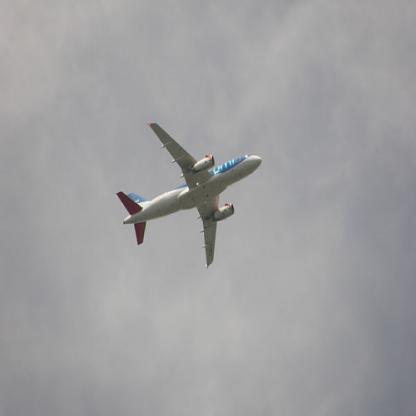aeroplane: (116, 121, 263, 268)
